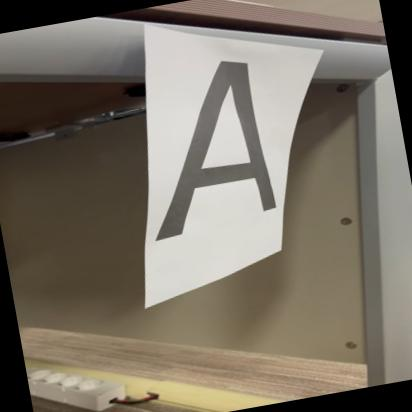seat: (104, 39, 322, 255)
